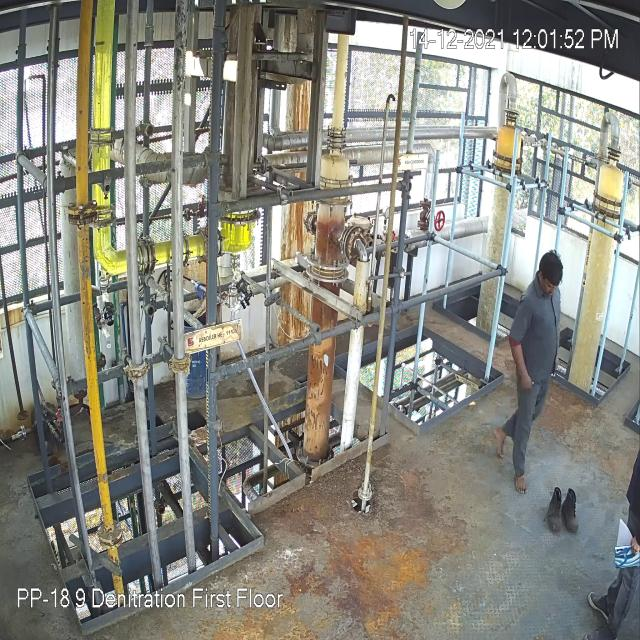no-shoes: (510, 464, 529, 494), (491, 425, 507, 458)
shoes: (560, 485, 583, 541), (543, 486, 563, 532)
